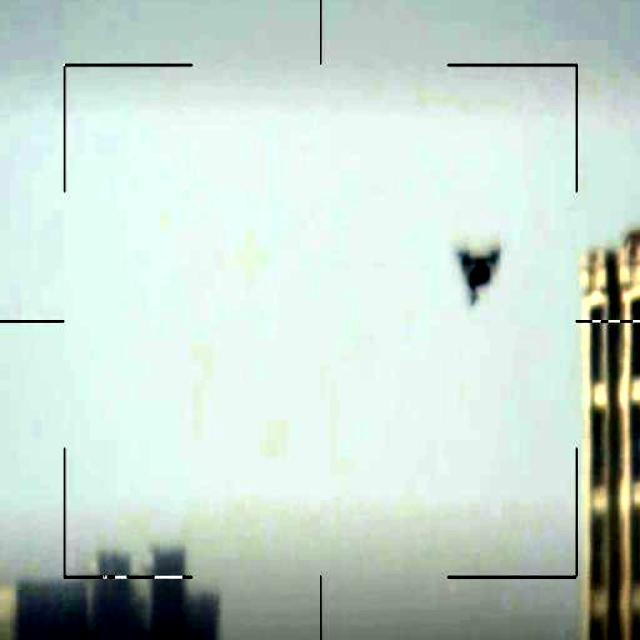bird: (464, 241, 511, 312)
